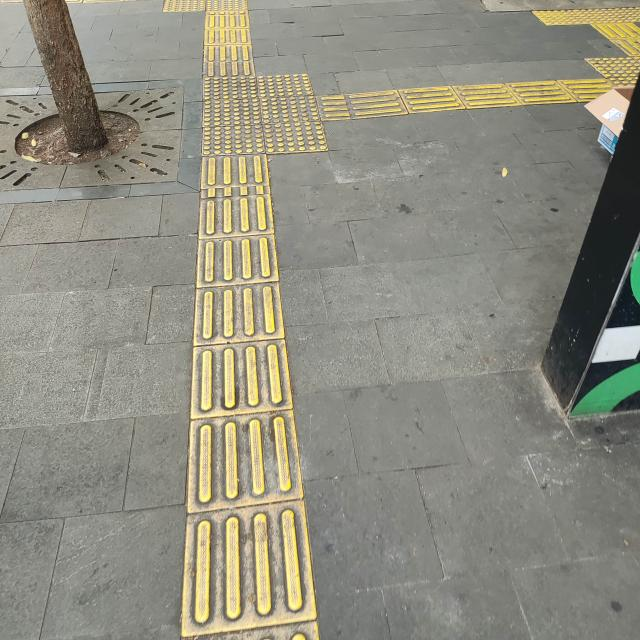lurus: (189, 151, 301, 640), (201, 0, 260, 74)
